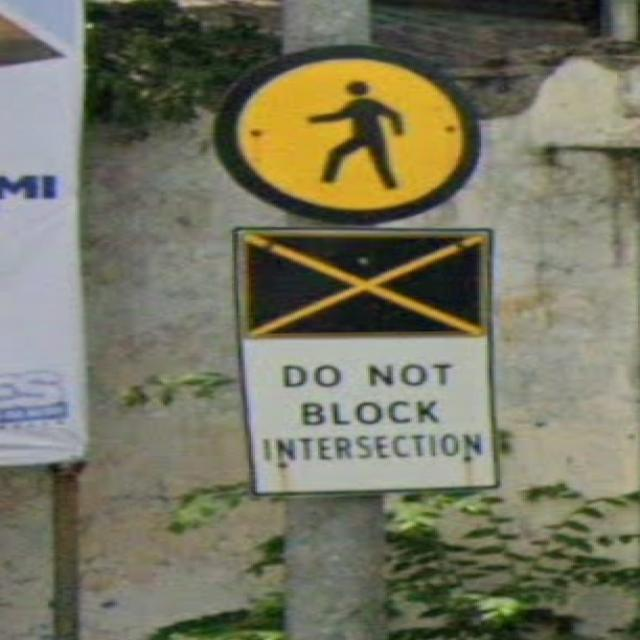pedestrian crossing: (213, 45, 481, 225)
